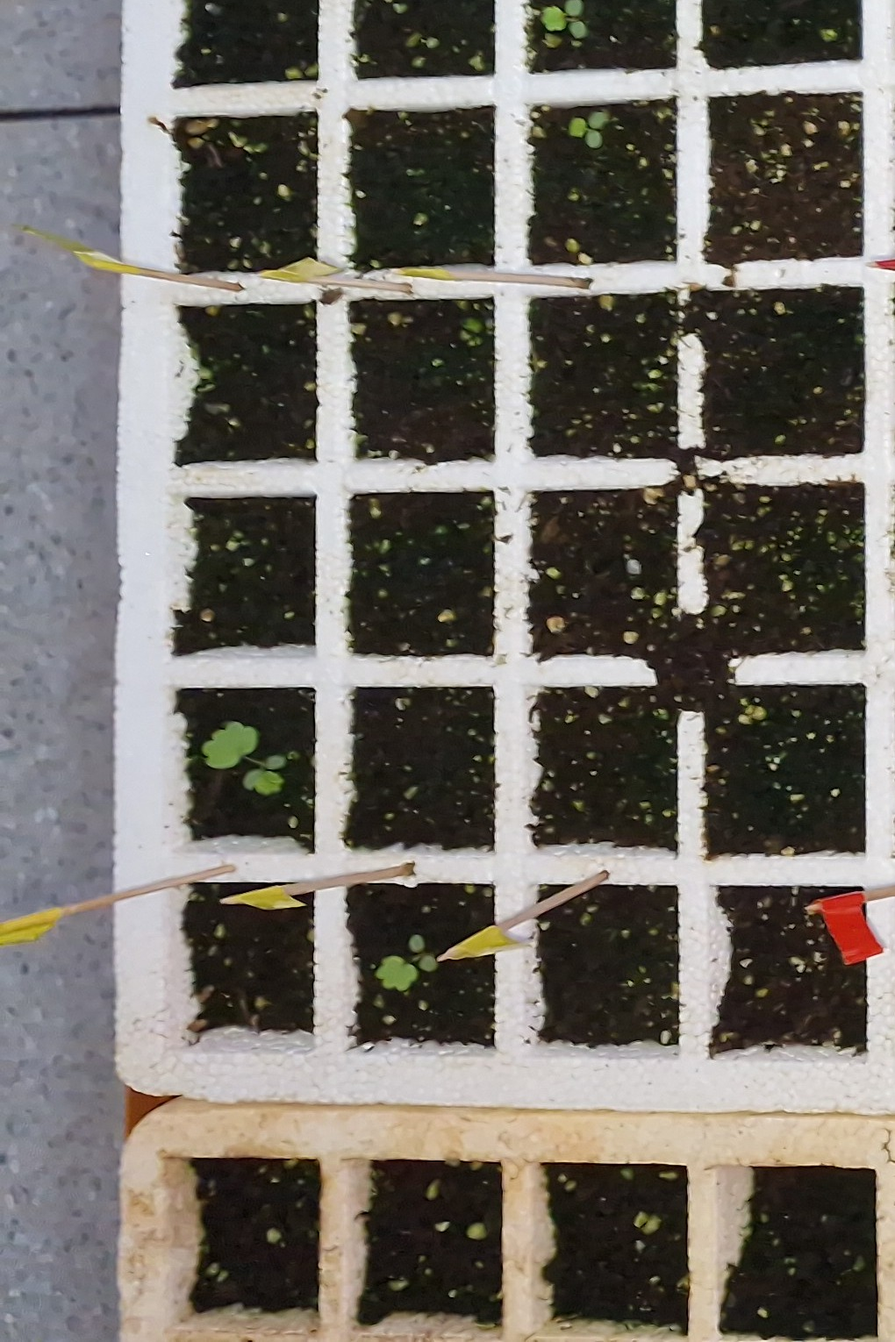Folha: (203, 723, 257, 768), (377, 957, 418, 991), (255, 771, 284, 795), (541, 6, 567, 31), (244, 769, 263, 790), (569, 118, 586, 137), (585, 131, 602, 149), (569, 21, 586, 38), (565, 0, 583, 16), (419, 956, 437, 971), (268, 755, 287, 769), (589, 112, 604, 128), (410, 935, 424, 952)
Germinacao: (202, 721, 287, 795), (375, 935, 437, 991), (539, 0, 585, 38), (569, 112, 608, 148)
